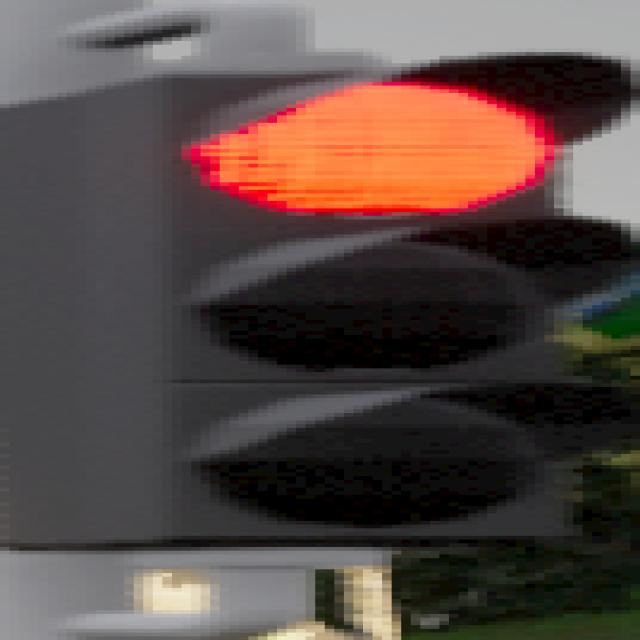red_light: (1, 45, 640, 560)
